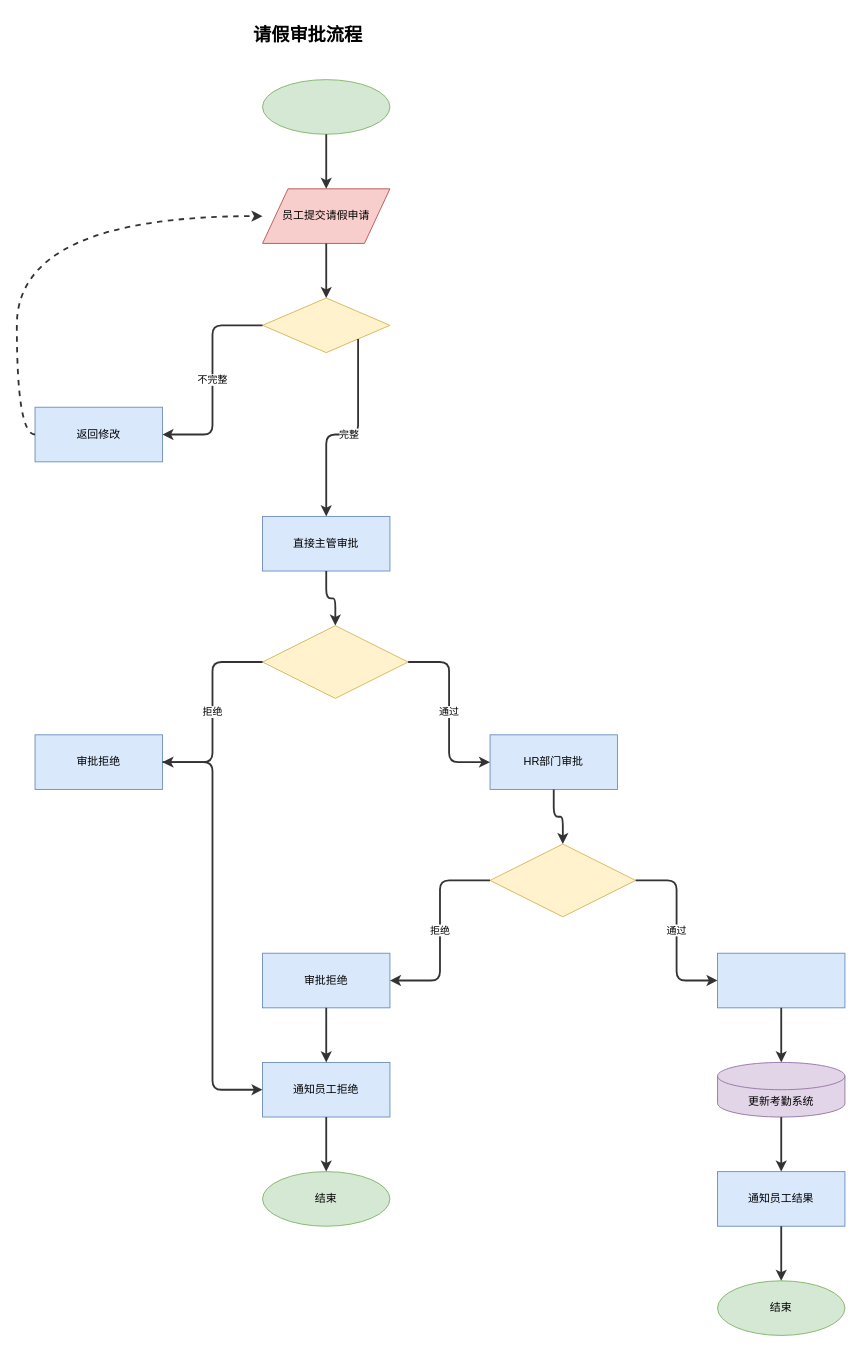
This 861x1351 diagram has some shape labels left out. The shapes that lost their labels are listed below. From the top down, each one's centre as x and y in pixels, then its label:
the point at 326,106: 开始
the point at 326,325: 检查申请信息完整性
the point at 335,661: 主管审批决定
the point at 562,880: HR审批决定
the point at 781,980: 最终审批通过
